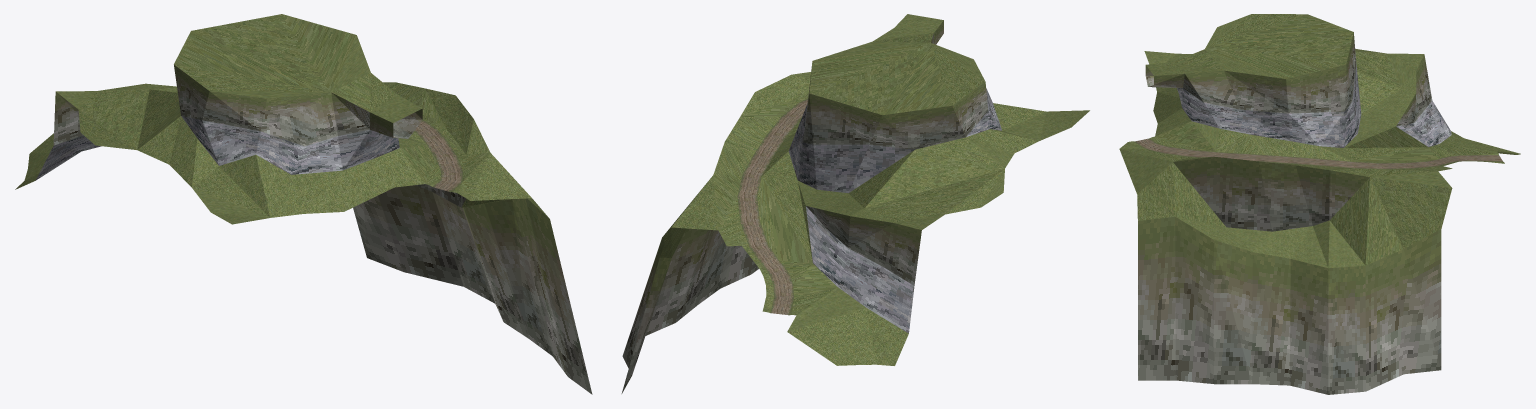
File: lod_n_bit_11b.obj
3 views of the same model, side by side, from view 1: azimuth 30°, elevation 25°; view 2: azimuth 150°, elevation 25°; view 3: azimuth 270°, elevation 25° (orthographic). The views are drawn at different scales.
Parts seen in each view (by area): view 1: lod_n_bit_11b; view 2: lod_n_bit_11b; view 3: lod_n_bit_11b.
Part boxes in pixels (left/top/right/bottom): lod_n_bit_11b: left=15, top=14, right=592, bottom=394; lod_n_bit_11b: left=621, top=14, right=1089, bottom=393; lod_n_bit_11b: left=1119, top=14, right=1520, bottom=394.
Bounding box in the file's own units: 167 × 131 × 188.
Materials: 4 (4 with a texture image).
